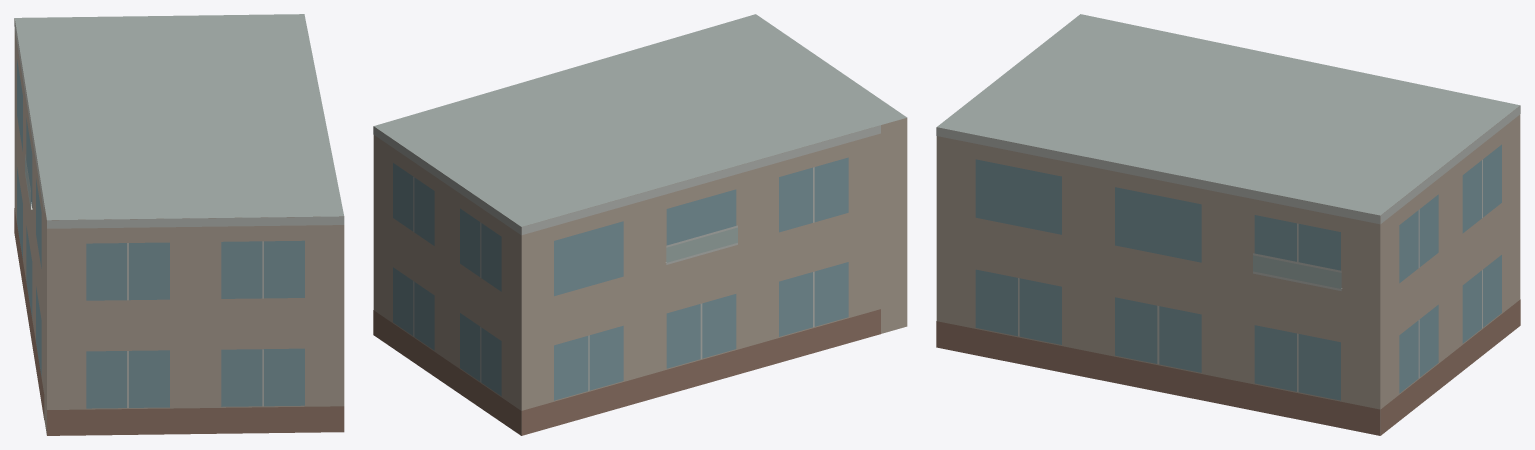
The model's file is survey-upis-32896050.glb.
The picture shows the model from 3 angles, left to right: view 1: azimuth 30°, elevation 25°; view 2: azimuth 150°, elevation 25°; view 3: azimuth 270°, elevation 25°; orthographic projection. The views are drawn at different scales.
Parts seen in each view (by area): view 1: survey-upis-32896050.tmp; view 2: survey-upis-32896050.tmp; view 3: survey-upis-32896050.tmp.
Part boxes in pixels (bbox=[...]): survey-upis-32896050.tmp: bbox=[14, 14, 344, 435]; survey-upis-32896050.tmp: bbox=[373, 14, 907, 435]; survey-upis-32896050.tmp: bbox=[936, 14, 1520, 435].
Bounding box in the file's own units: 11.98 × 6.1 × 14.66.
